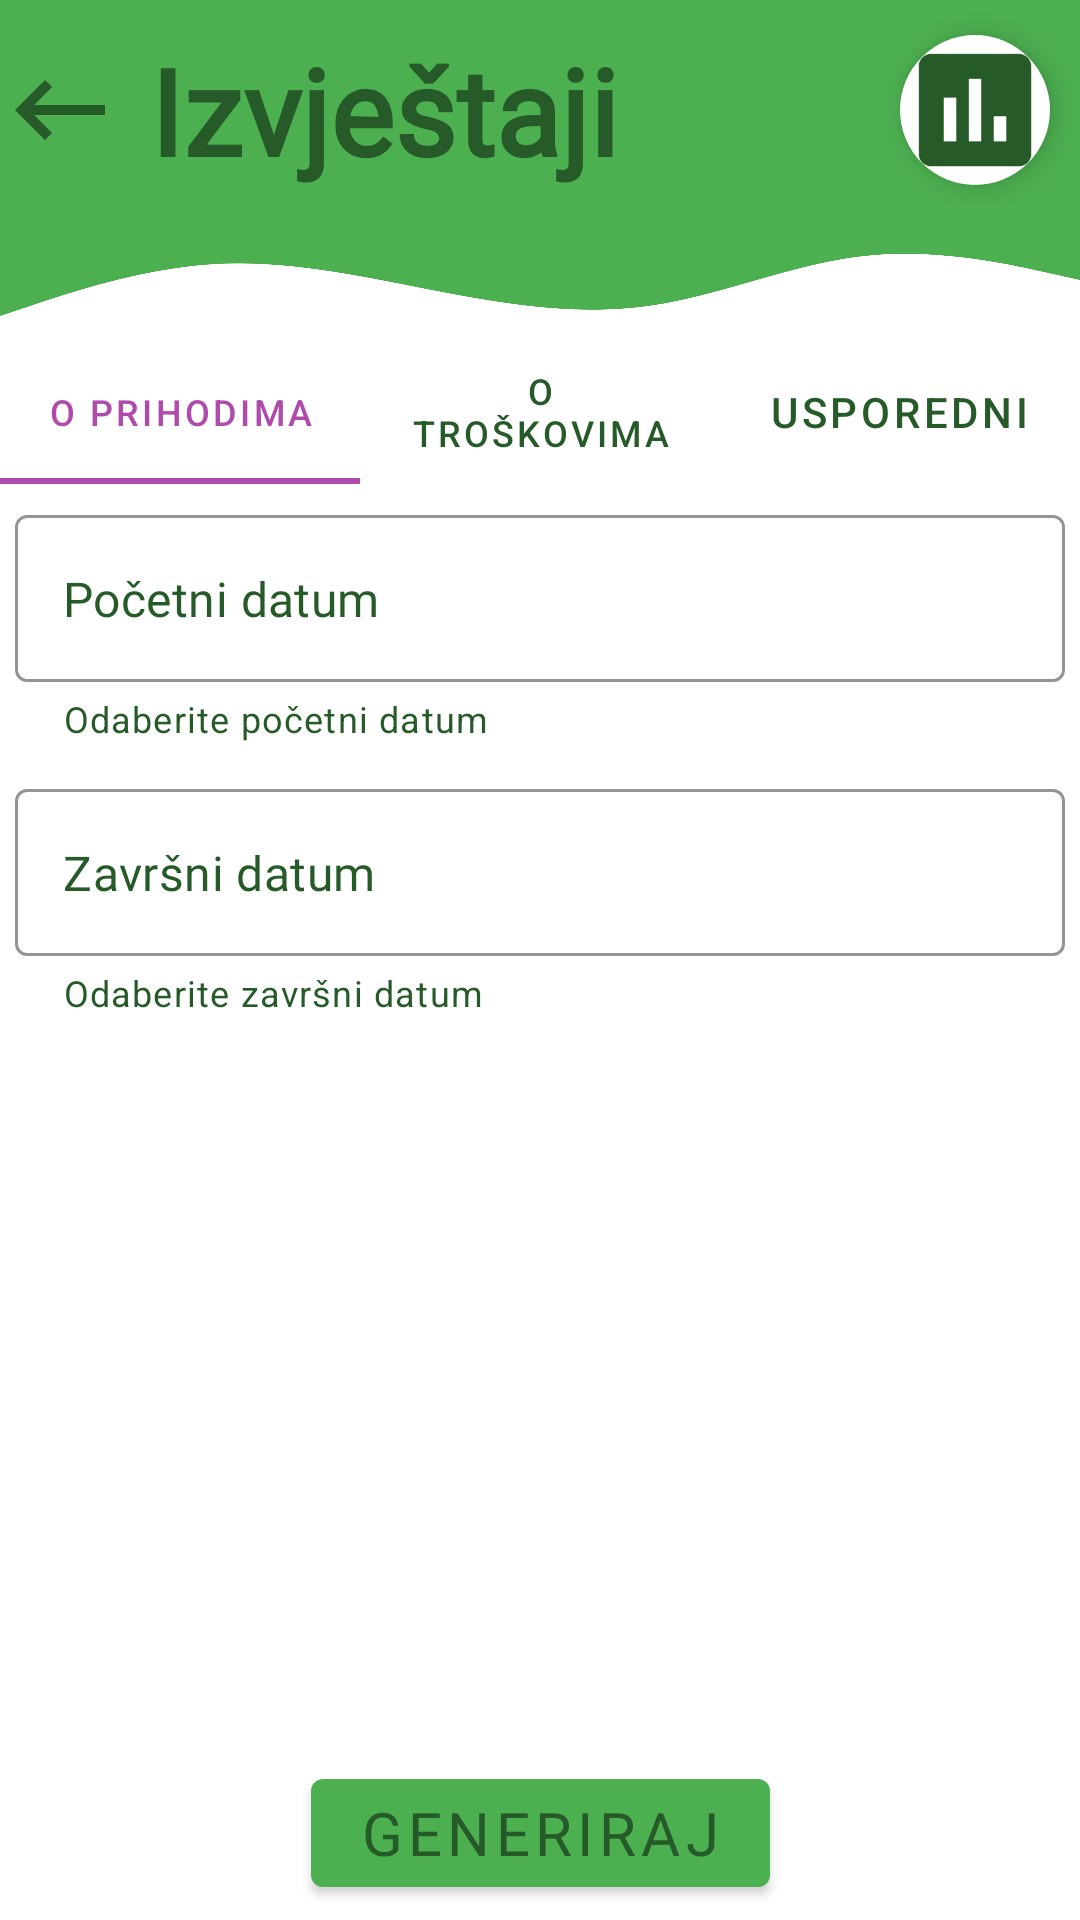

Screen size 1080*1920. Icon name, then its center in pixels as [x,y]:
back: [60,110]
